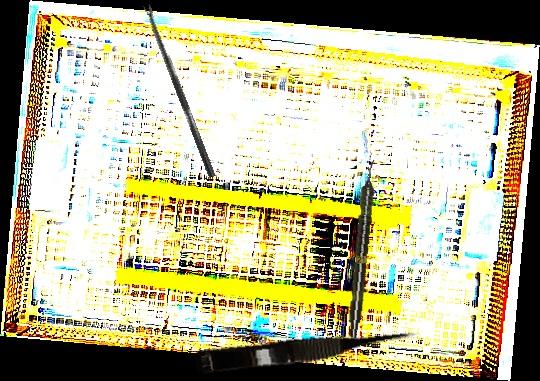Handpiece: (345, 158, 380, 339)
Micro Scissor: (193, 323, 421, 379)
Surgical Spoon: (143, 3, 217, 179)
